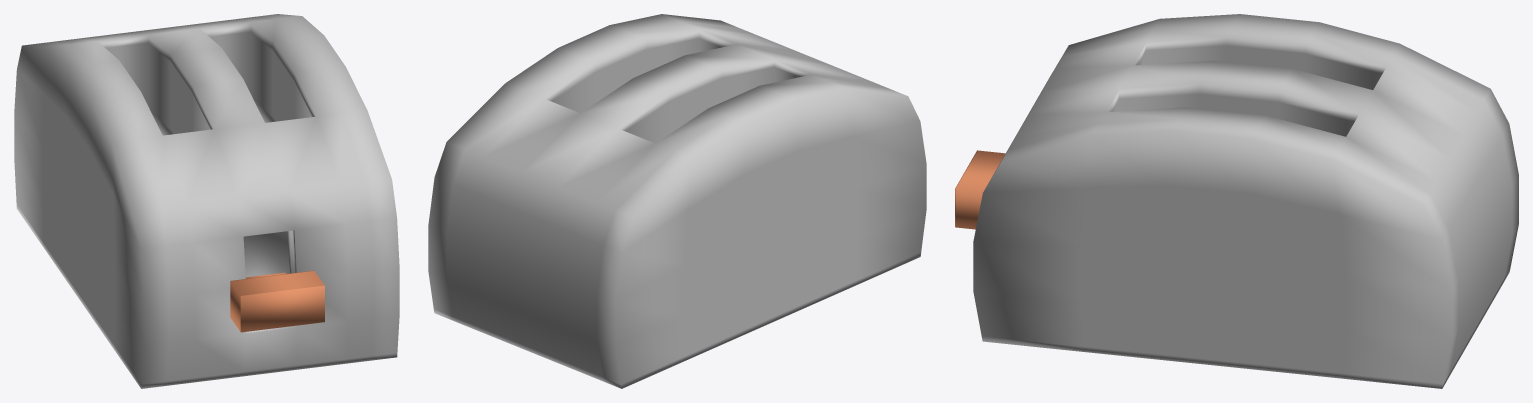
The model's file is toaster.glb.
3 views of the same model, side by side, from view 1: azimuth 30°, elevation 25°; view 2: azimuth 150°, elevation 25°; view 3: azimuth 270°, elevation 25° (orthographic). The views are drawn at different scales.
Visible parts, largest first — view 1: Cube.066, Cube.067; view 2: Cube.066; view 3: Cube.066, Cube.067.
Part boxes in pixels (x1,y1,x2,y2): Cube.066: (14,14,399,388); Cube.067: (230,270,324,332); Cube.066: (428,14,926,388); Cube.066: (973,14,1518,388); Cube.067: (955,150,1005,229).
Size of the model in its own units: 0.2737 by 0.1774 by 0.3931.
